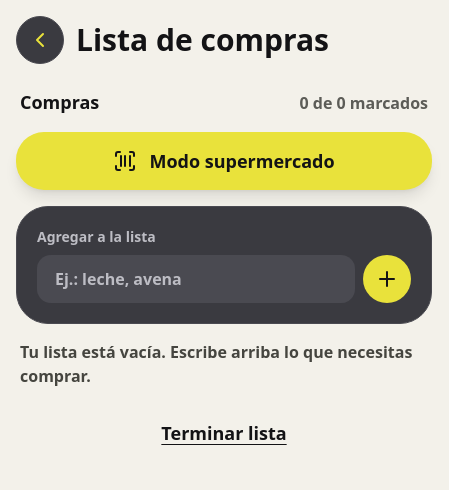
ShoppingPage › asks for a label before adding
Click the button named "Agregar".
click(387, 279)  # box [363, 255, 411, 303]
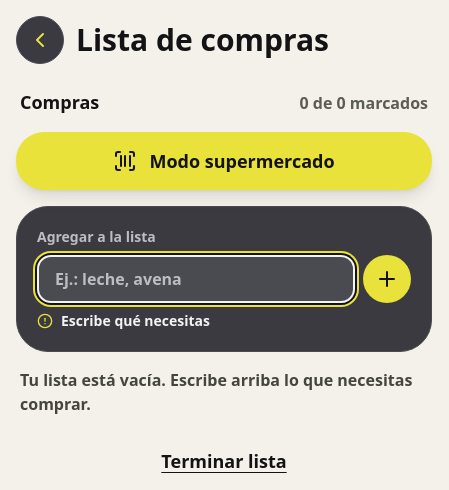
Now the text "Escribe qué necesitas" is shown, box [37, 311, 210, 330]
